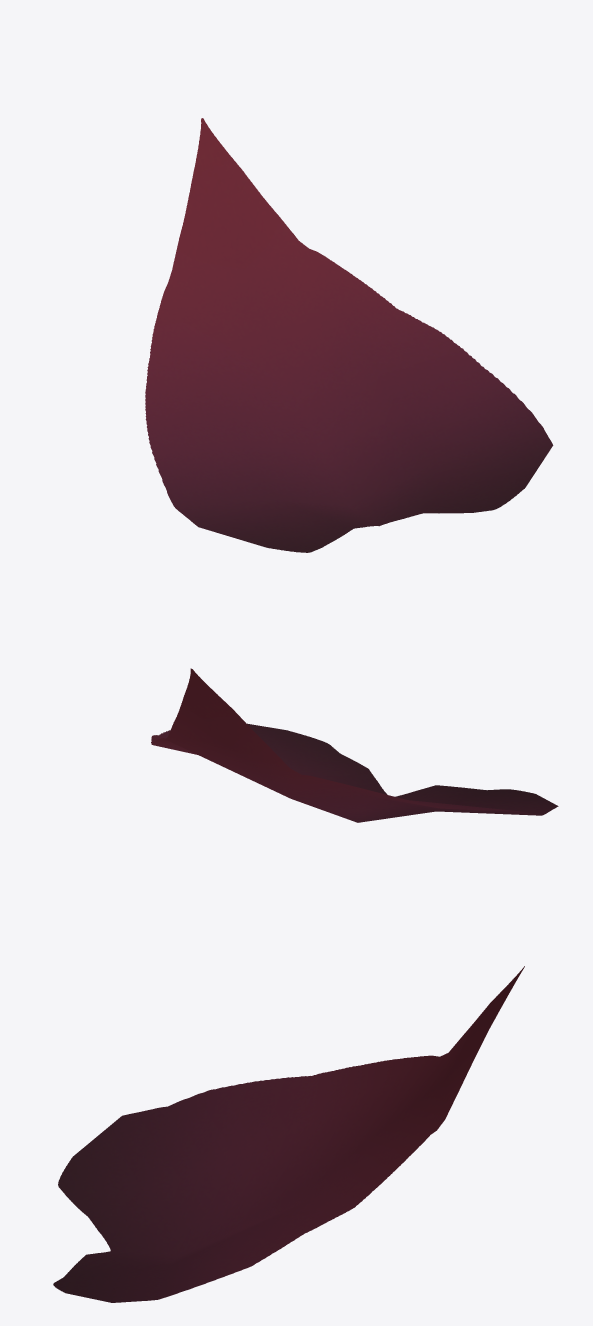
File: environment_evilplant_leaf.fbx
3 views of the same model, one above another, from view 1: azimuth 30°, elevation 25°; view 2: azimuth 150°, elevation 25°; view 3: azimuth 270°, elevation 25° (orthographic). The views are drawn at different scales.
Parts seen in each view (by area): view 1: polySurface2; view 2: polySurface2; view 3: polySurface2.
Part boxes in pixels (x1,y1,x2,y2): polySurface2: (145,118,553,552); polySurface2: (151,668,558,822); polySurface2: (53,966,524,1302).
Bounding box in the file's own units: 93.4 × 67.79 × 93.83.
